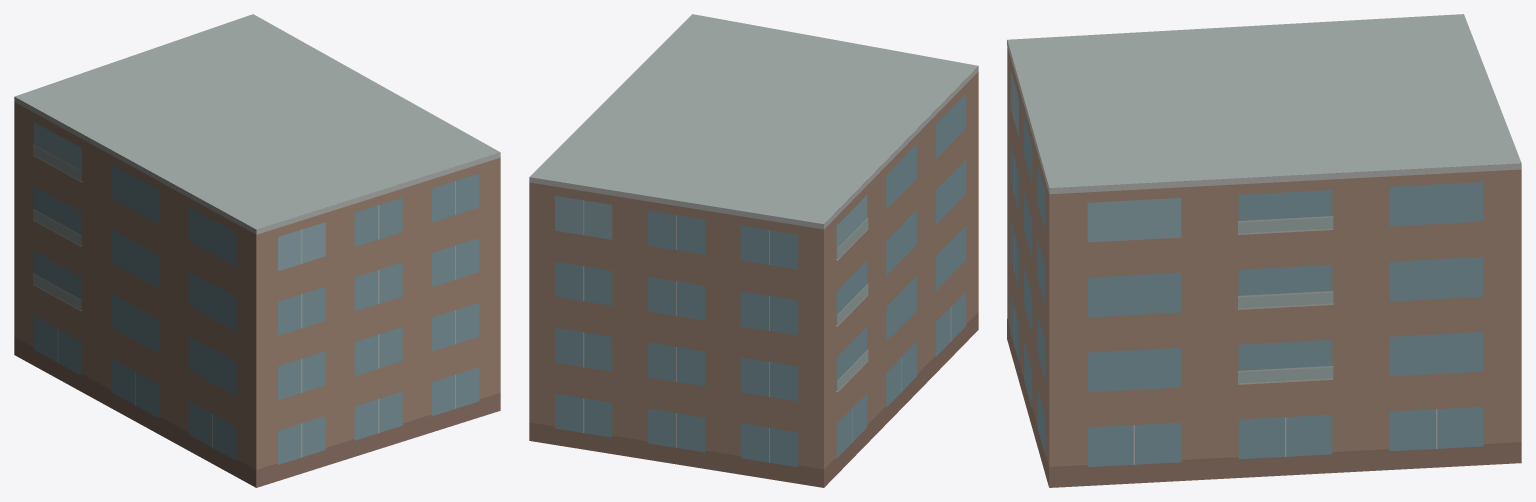
Rendered from survey-upis-32549620.glb.
3 renders of one model, left to right at view 1: azimuth 30°, elevation 25°; view 2: azimuth 150°, elevation 25°; view 3: azimuth 270°, elevation 25°, orthographic. The views are drawn at different scales.
Parts seen in each view (by area): view 1: survey-upis-32549620.tmp; view 2: survey-upis-32549620.tmp; view 3: survey-upis-32549620.tmp.
Part boxes in pixels (left/top/right/bottom): survey-upis-32549620.tmp: left=14, top=14, right=500, bottom=487; survey-upis-32549620.tmp: left=529, top=14, right=978, bottom=487; survey-upis-32549620.tmp: left=1007, top=14, right=1521, bottom=487.
Bounding box in the file's own units: 14.97 × 12 × 18.68.
